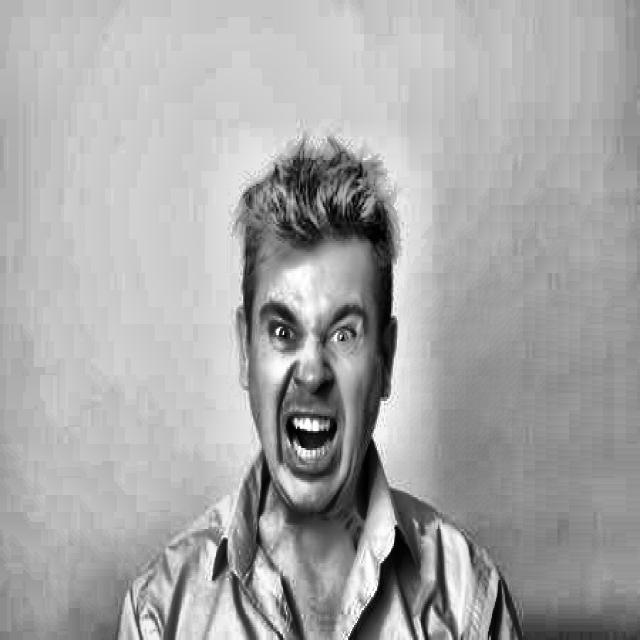angry: (238, 252, 395, 521)
